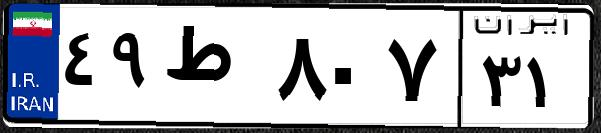0: (330, 28, 385, 110)
1: (525, 38, 570, 115)
3: (475, 38, 525, 113)
4: (57, 26, 110, 100)
7: (385, 28, 445, 110)
8: (270, 28, 330, 110)
9: (110, 28, 158, 98)
ط: (158, 20, 270, 120)
